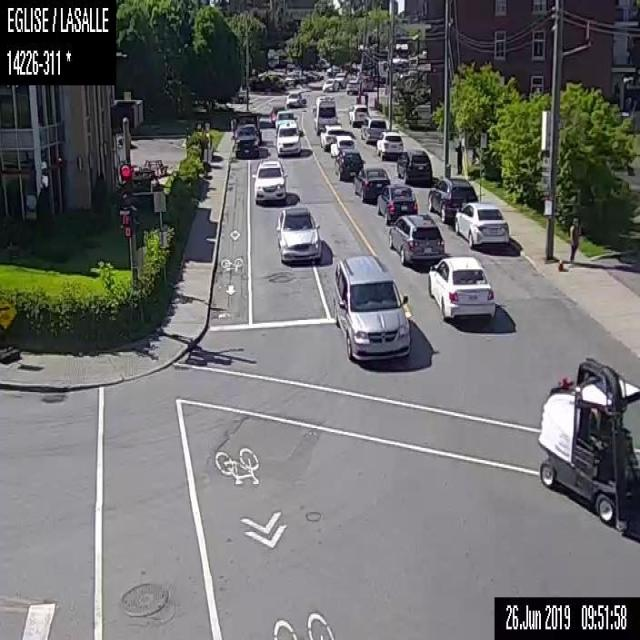pedestrian: (568, 216, 579, 264), (454, 140, 464, 173)
vehicle: (537, 359, 639, 532), (331, 255, 412, 364), (426, 255, 496, 321), (386, 212, 444, 266), (453, 201, 509, 250), (276, 205, 321, 262), (427, 176, 478, 222), (252, 156, 286, 203), (375, 182, 418, 219), (396, 148, 432, 186), (232, 112, 262, 157), (353, 166, 390, 202), (311, 92, 337, 134), (275, 120, 303, 154), (375, 130, 404, 159), (358, 115, 386, 144), (334, 151, 362, 179), (319, 123, 343, 149), (328, 134, 352, 156), (348, 103, 369, 128), (276, 108, 296, 131), (285, 90, 306, 106), (270, 105, 285, 127), (345, 77, 362, 93), (321, 77, 338, 91), (334, 71, 346, 86)
